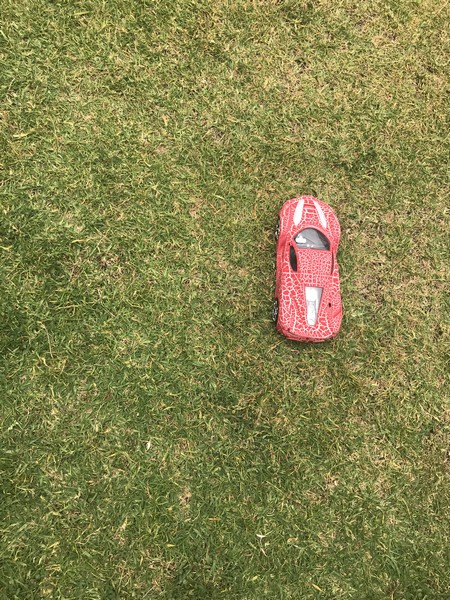RC: (269, 194, 346, 346)
